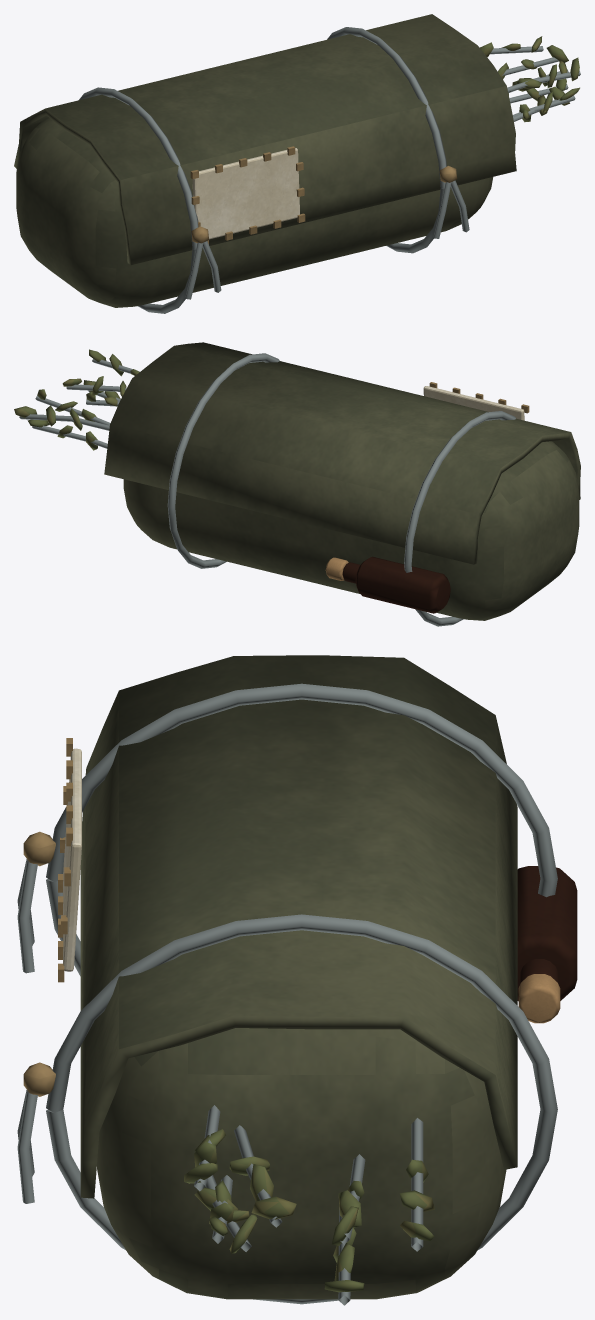
Rendered from prop_med_kit_01.gltf.
3 renders of one model, top to bottom at view 1: azimuth 30°, elevation 25°; view 2: azimuth 150°, elevation 25°; view 3: azimuth 270°, elevation 25°, orthographic. The views are drawn at different scales.
Parts seen in each view (by area): view 1: prop_med_kit_01_item_atlas_01; view 2: prop_med_kit_01_item_atlas_01; view 3: prop_med_kit_01_item_atlas_01.
Boxes of the visible parts, x1,y1,x2,y2 form: prop_med_kit_01_item_atlas_01: (14, 14, 580, 313); prop_med_kit_01_item_atlas_01: (14, 342, 580, 626); prop_med_kit_01_item_atlas_01: (17, 655, 577, 1305).
Size of the model in its own units: 0.2156 by 0.0788 by 0.1026.
Materials: 1 (1 with a texture image).
